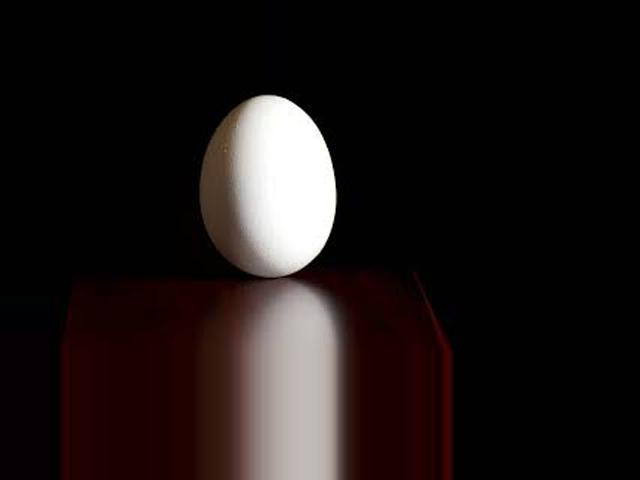egg: (201, 95, 336, 278)
